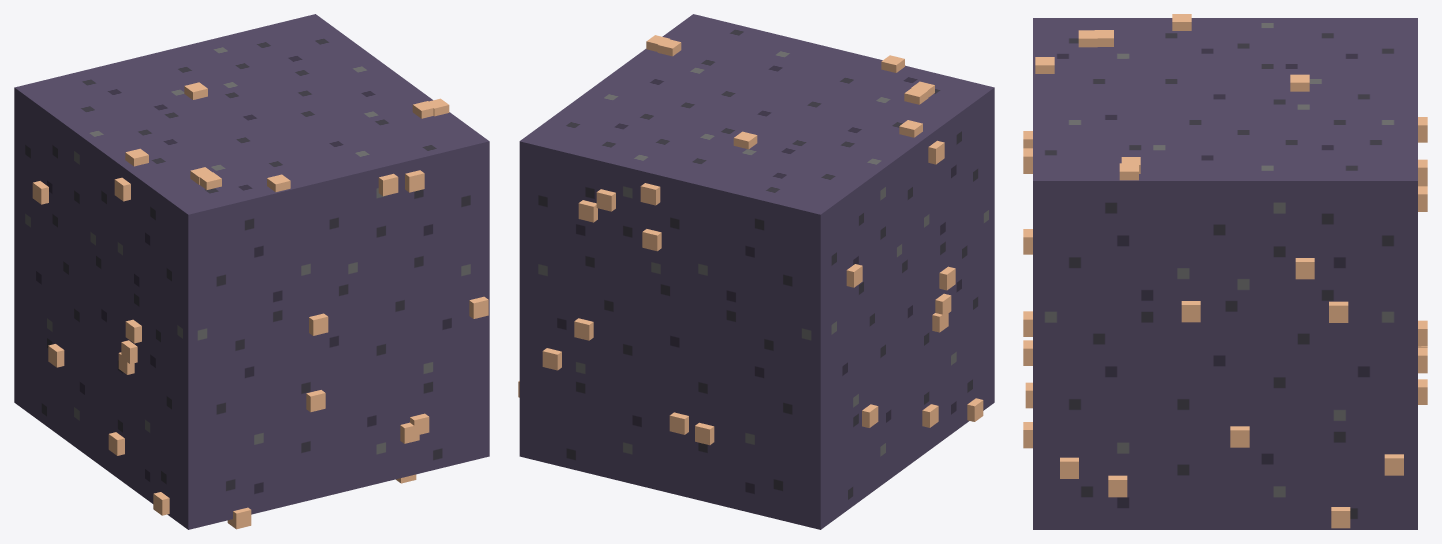
File: ore1_3.fbx
The picture shows the model from 3 angles, left to right: view 1: azimuth 30°, elevation 25°; view 2: azimuth 150°, elevation 25°; view 3: azimuth 270°, elevation 25°; orthographic projection. The views are drawn at different scales.
Visible parts, largest first — view 1: Iron 2; view 2: Iron 2; view 3: Iron 2.
Boxes of the visible parts, x1,y1,x2,y2 form: Iron 2: (14,14,489,529); Iron 2: (518,14,994,529); Iron 2: (1023,14,1427,529).
Bounding box in the file's own units: 210 × 210 × 210.
